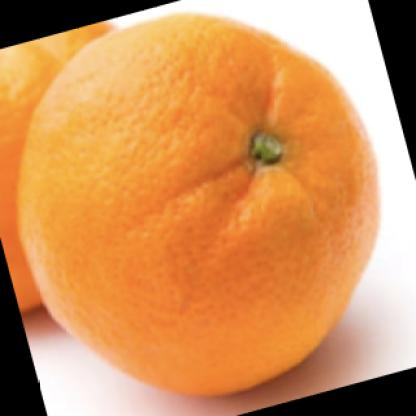orange: (19, 8, 381, 403)
